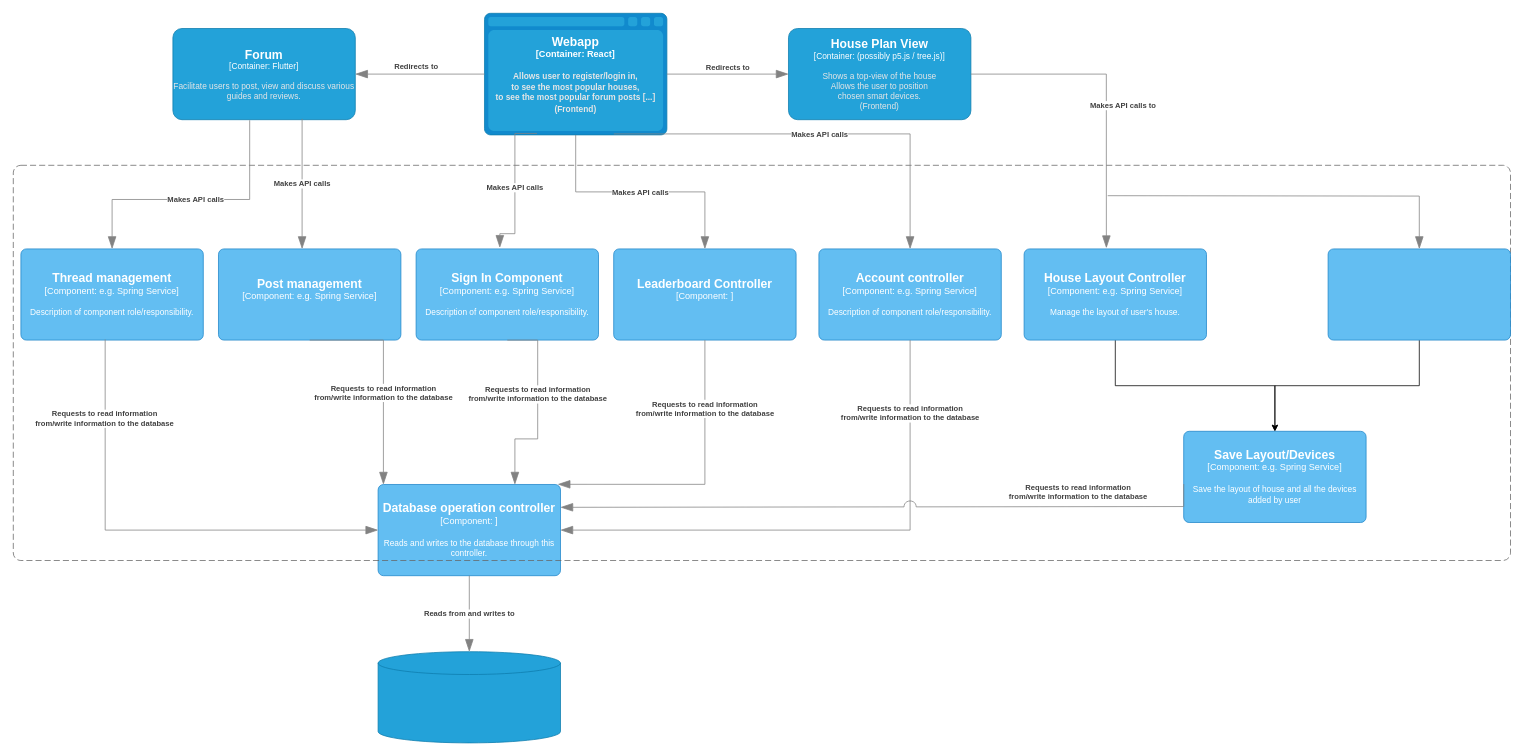
Image size: 1524x756. Some labels were removed from this diagram. Here are the shapes that lost their labels. From the top down, the box of each, then its label:
(1327, 248, 1510, 340): Device Controller [Component: e.g. Spring Service] Manage all the smart devices
(13, 165, 1510, 560): SHB API [Container]
(377, 651, 560, 743): Data Base [Container : ] (Database)
